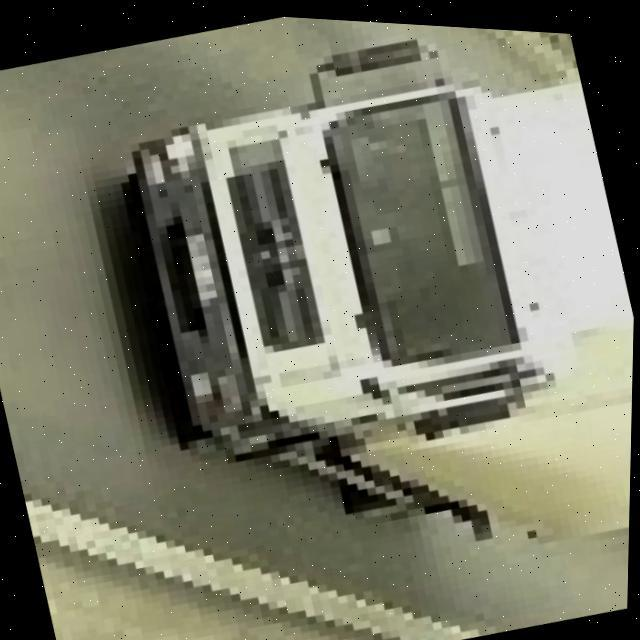truck: (84, 5, 640, 622)
